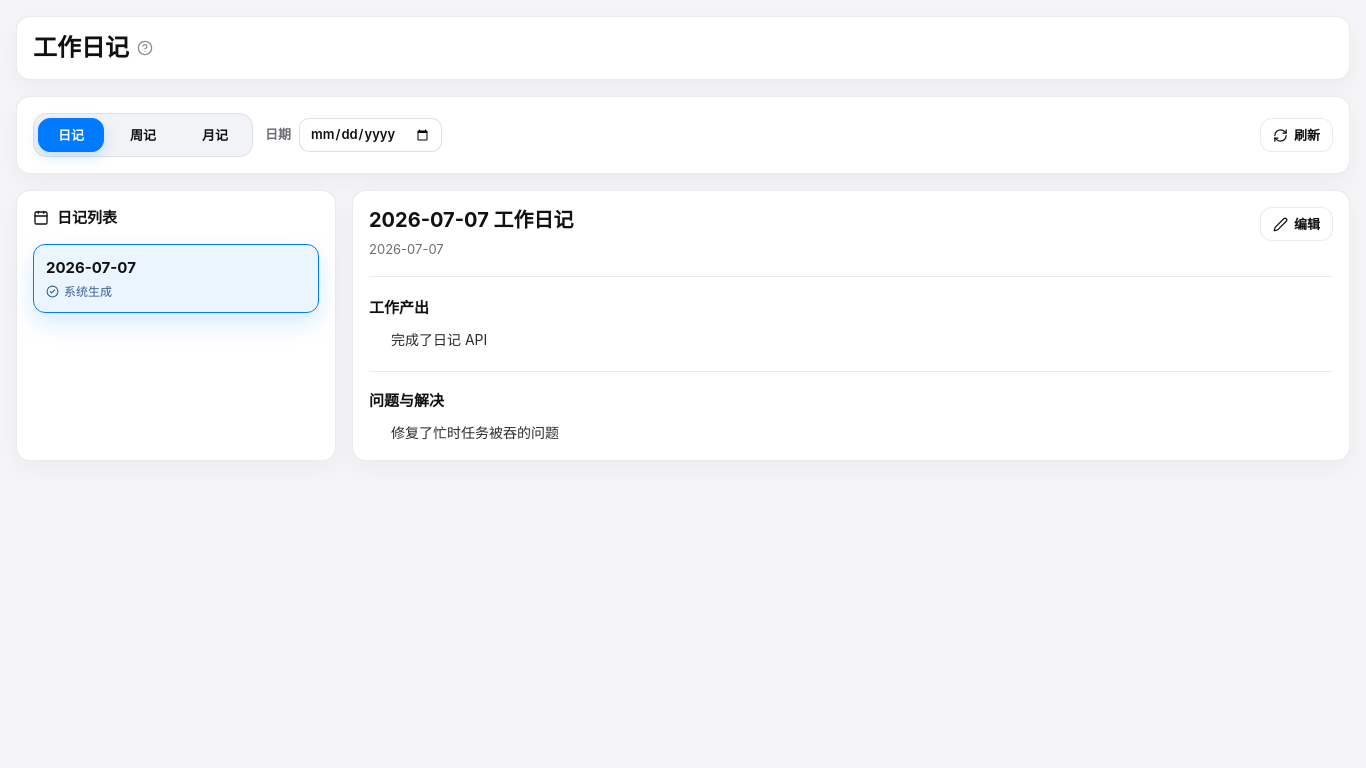
Test: refreshes the selected diary and shows the source coverage
Check: the list item "完成了日记 API" is shown, box [391,330,487,348]
Step 1. Click the button "刷新" → (1296, 135), box [1260,118,1333,152]
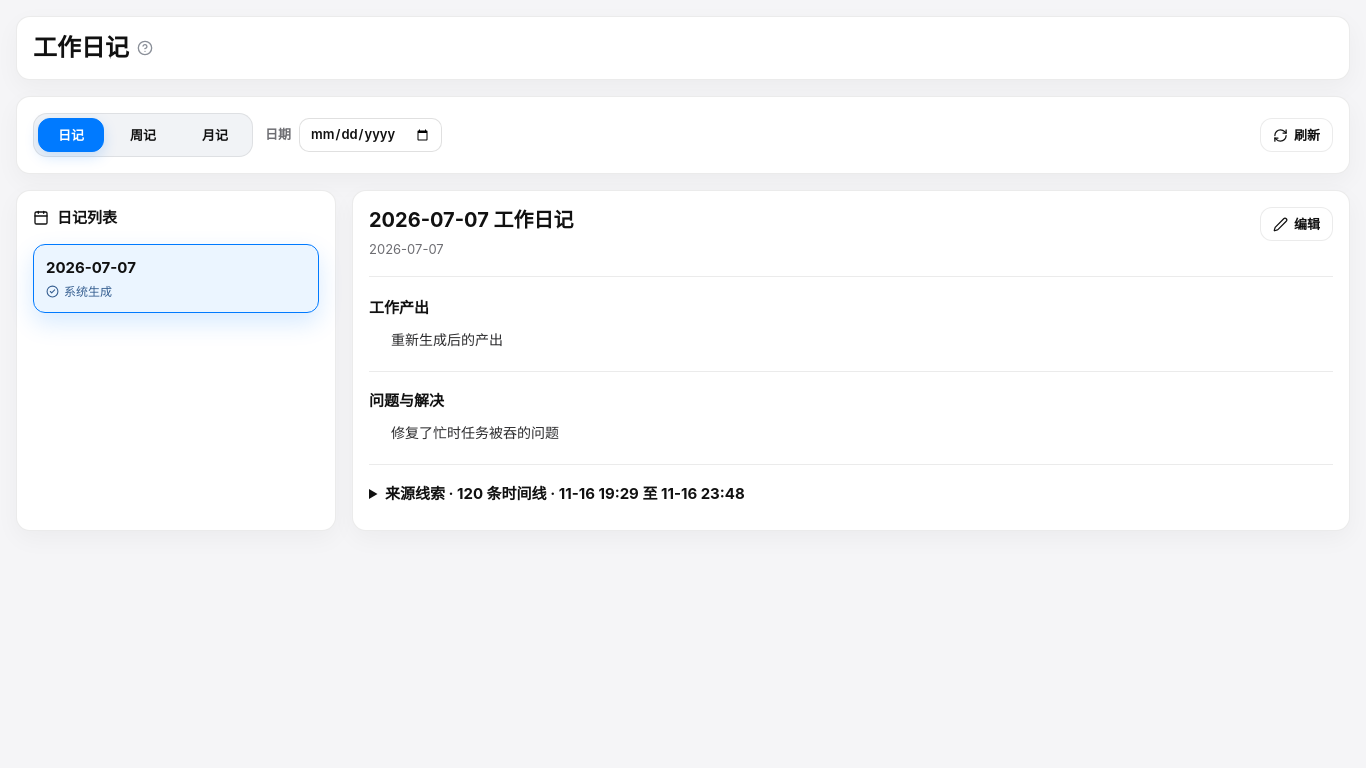
Check: the list item "重新生成后的产出" is shown, box [391,330,503,348]
Check: the list item "完成了日记 API" is gone
Check: the text "· 120 条时间线 · 11-16 19:29 至 11-16 23:48" is shown, box [445,484,745,503]
